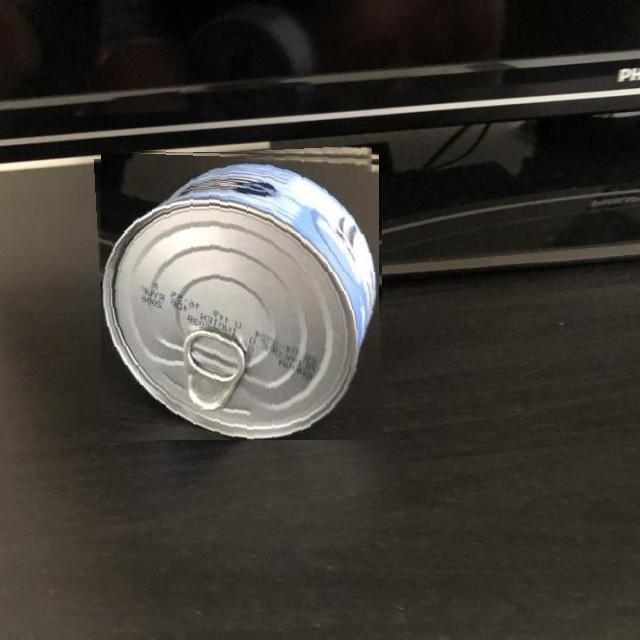recyclable: (98, 149, 382, 440)
